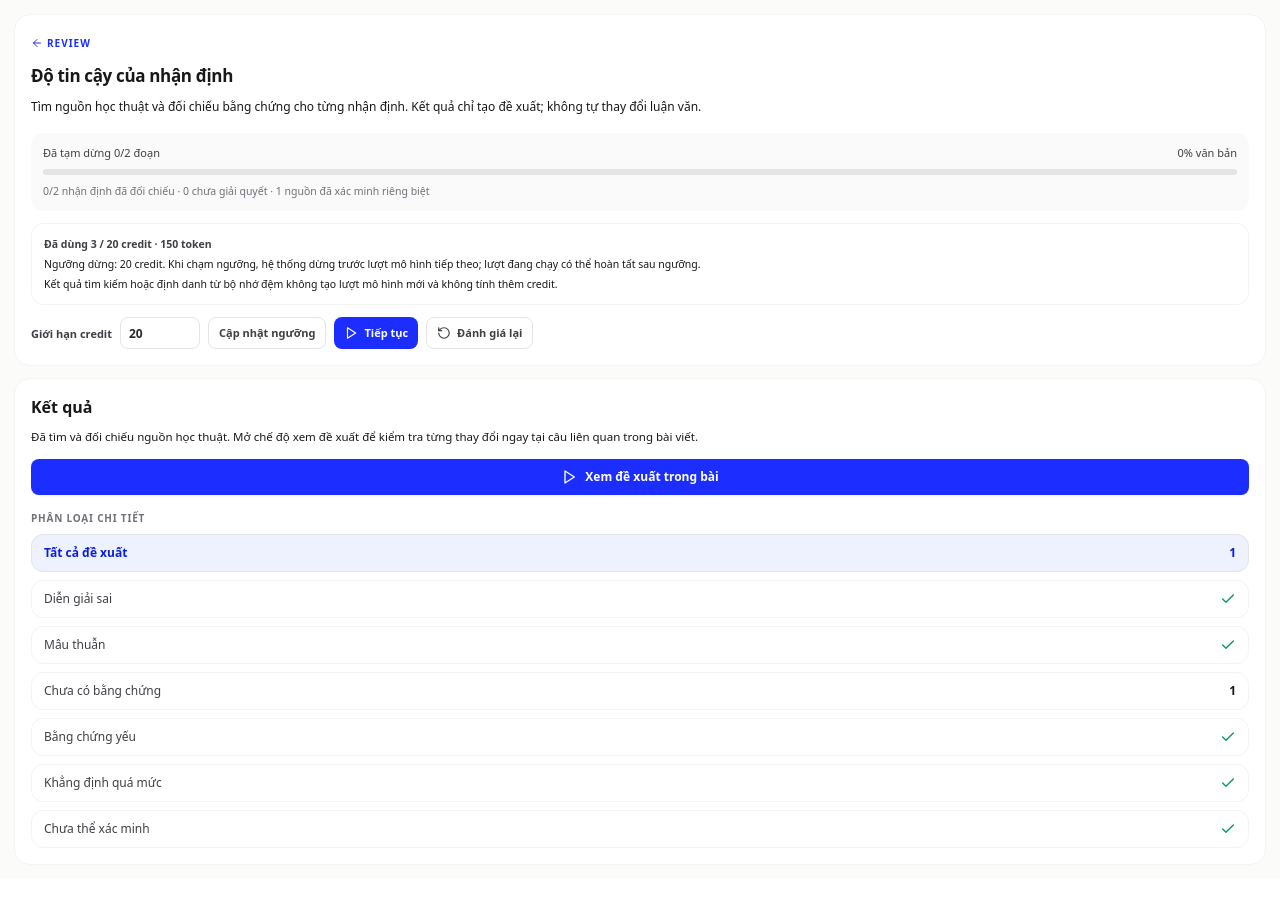
Test: ClaimConfidencePanel › resumes a latest running review without starting a new one
The image size is (1280, 900).
Click the button "Tiếp tục": (376, 333) [334, 317, 418, 349]
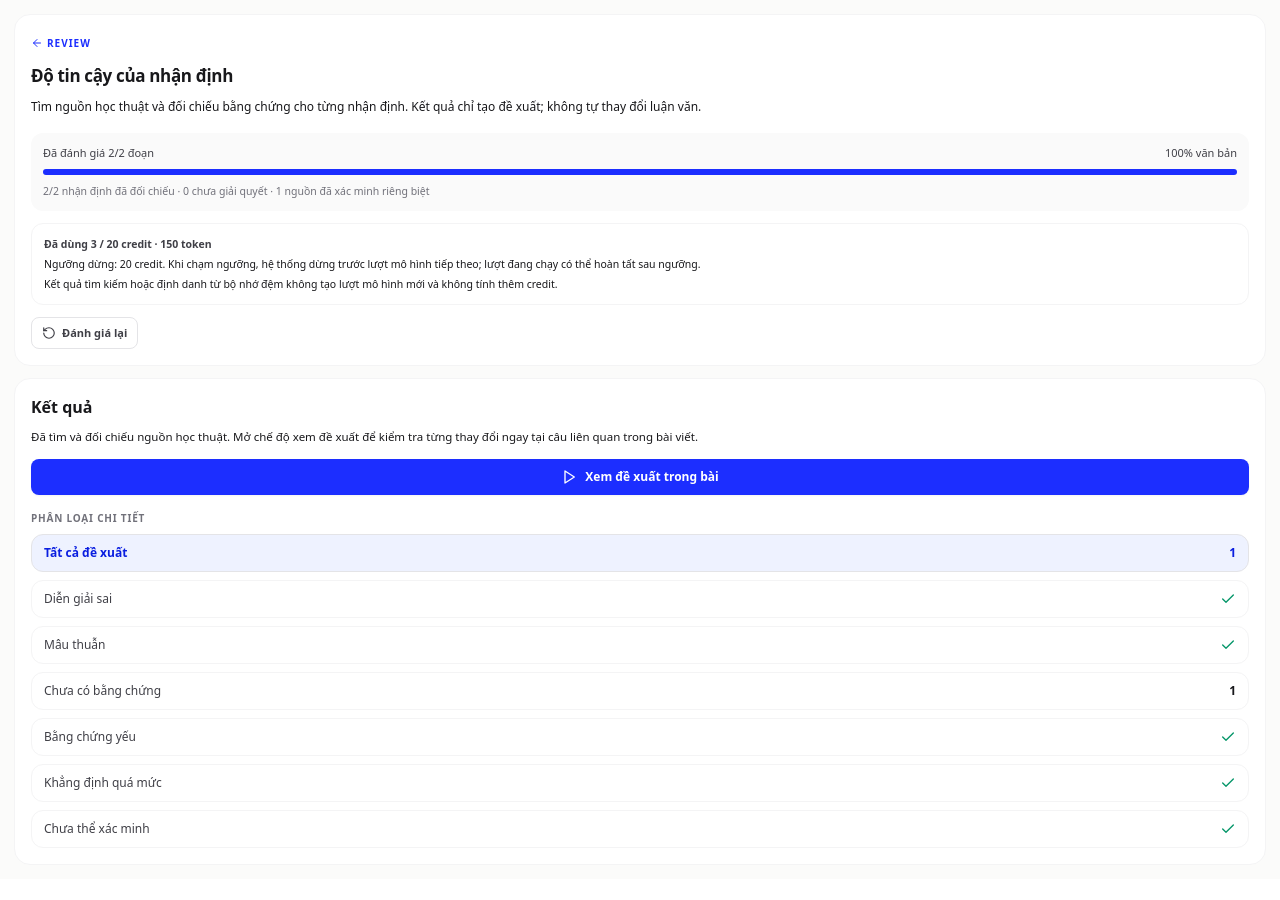
Expected: the text "Đã đánh giá 2/2 đoạn" is shown, [43, 144, 154, 161]
